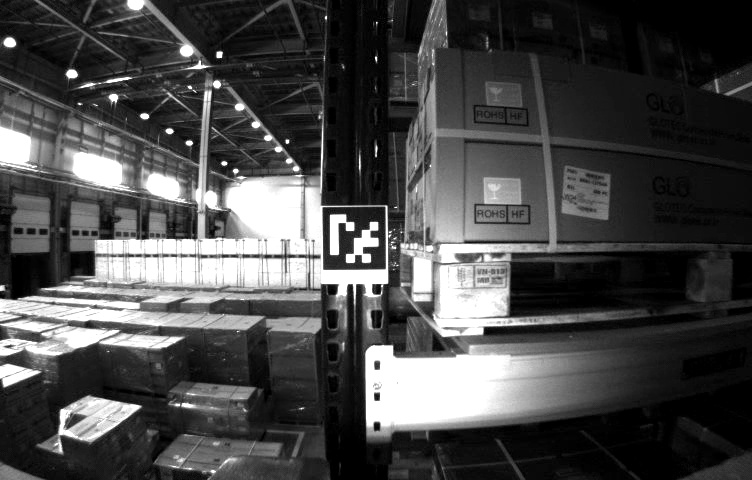True Barcode: (561, 162, 615, 217)
